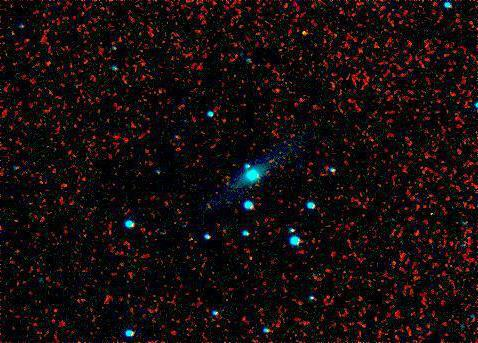star: (291, 18, 321, 48)
